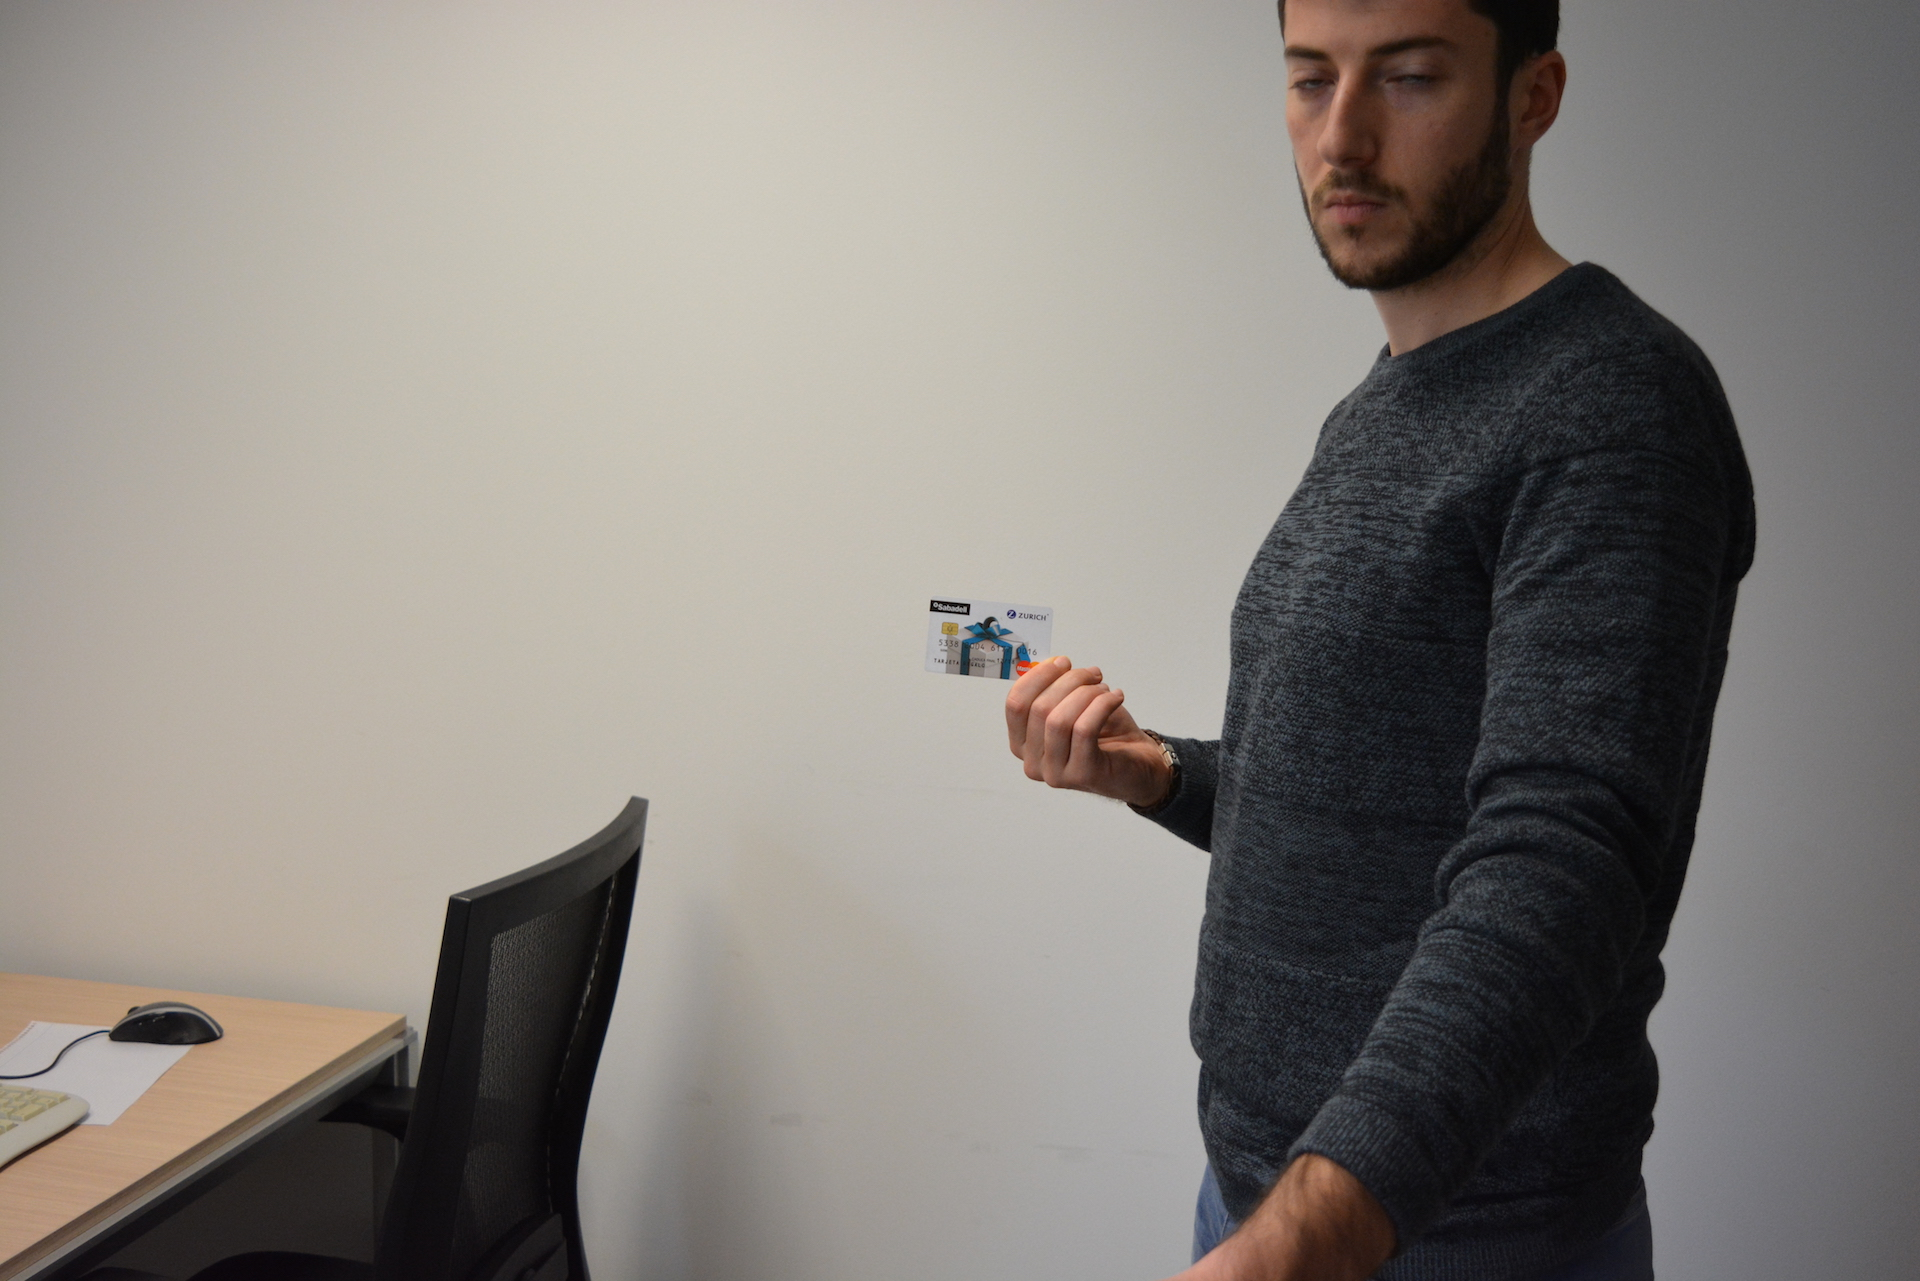tarjeta: (924, 593, 1054, 682)
